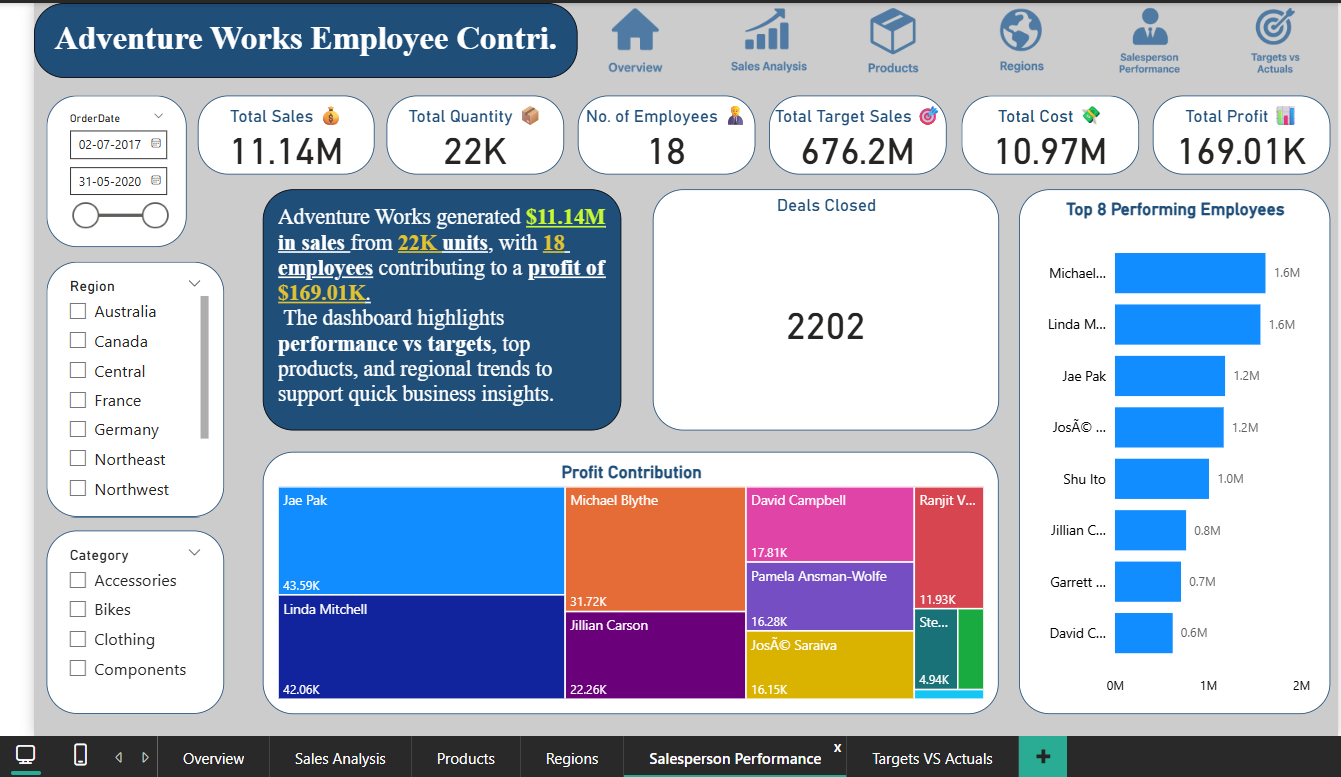

This screenshot's page, from the dashboard's own definition file:
{"tool":"powerbi","page":{"name":"Salesperson Performance","canvas":[1280,720],"ordinal":4},"visuals":[{"type":"textbox","box":[0,0,533.7,73.6],"z":0},{"type":"image","box":[521.5,0,138.5,73.6],"z":0,"group":"g2"},{"type":"card","title":"Total Sales 💰","fields":{"Values":["adventure_works sales.Total Sales"]},"box":[160.7,91,173.7,77.9],"z":0,"group":"g1"},{"type":"image","box":[660,0,122.9,73.6],"z":1000,"group":"g2"},{"type":"group","id":"g1","title":"Group 1","box":[160.7,91,1111.7,78.5],"z":1000},{"type":"card","title":"Total Quantity 📦","fields":{"Values":["Sum(adventure_works sales.Quantity)"]},"box":[345.7,91.6,174.1,77.9],"z":1000,"group":"g1"},{"type":"group","id":"g2","title":"Group 2","box":[521.5,0,758.3,73.6],"z":2000},{"type":"image","box":[782.9,0,122.9,73.6],"z":2000,"group":"g2"},{"type":"card","title":"No. of Employees 👨💼","fields":{"Values":["Count(adventure_works salesperson.EmployeeID)"]},"box":[533.5,91.6,174.1,77.9],"z":2000,"group":"g1"},{"type":"image","box":[905.8,0,128.1,73.6],"z":3000,"group":"g2"},{"type":"card","title":"Total Target Sales 🎯","fields":{"Values":["Sum(adventure_works targets.Target)"]},"box":[721.3,91.6,174.1,77.9],"z":3000,"group":"g1"},{"type":"treemap","title":"Profit Contribution","fields":{"Group":["adventure_works salesperson.Salesperson"],"Values":["adventure_works sales.Total Profit"]},"box":[224.5,440.5,722.7,257.7],"z":3000},{"type":"image","box":[1033.9,0,122.9,73.6],"z":4000,"group":"g2"},{"type":"card","title":"Total Cost 💸","fields":{"Values":["Sum(adventure_works sales.Cost)"]},"box":[910.5,91.6,174.1,77.9],"z":4000,"group":"g1"},{"type":"barChart","title":"Top 8 Performing Employees","fields":{"Y":["Sum(adventure_works sales.Sales)"],"Category":["adventure_works salesperson.Salesperson"]},"box":[966.9,182.8,305.5,515.3],"z":4000},{"type":"image","box":[1156.9,0,122.9,73.6],"z":5000,"group":"g2"},{"type":"card","title":"Total Profit 📊","fields":{"Values":["adventure_works sales.Total Profit"]},"box":[1098.3,91.6,174.1,77.9],"z":5000,"group":"g1"},{"type":"card","title":"Deals Closed","fields":{"Values":["adventure_works sales.Deals Closed"]},"box":[607.4,182.8,339.9,236.8],"z":5000},{"type":"slicer","fields":{"Values":["adventure_works sales.OrderDate"]},"box":[12.3,90.8,137.4,148.5],"z":6000},{"type":"slicer","fields":{"Values":["adventure_works region.Region"]},"box":[12.3,254,174.2,250.3],"z":7000},{"type":"slicer","fields":{"Values":["adventure_works product.Category"]},"box":[12.3,517.8,174.2,180.4],"z":8000},{"type":"textbox","box":[224.5,182.8,352.1,236.8],"z":10000}]}

Visuals, with their boxes on the page's 1280x720 design canvas (x1, y1, x2, y2). These are canvas units, not pixel positions in the 1341x777 screenshot, which may show the page scaled, cropped or inside an application window:
textbox: select_region(0, 0, 534, 74)
image: select_region(522, 0, 660, 74)
"Total Sales 💰" card: select_region(161, 91, 334, 169)
image: select_region(660, 0, 783, 74)
"Group 1" group: select_region(161, 91, 1272, 170)
"Total Quantity 📦" card: select_region(346, 92, 520, 170)
"Group 2" group: select_region(522, 0, 1280, 74)
image: select_region(783, 0, 906, 74)
"No. of Employees 👨💼" card: select_region(534, 92, 708, 170)
image: select_region(906, 0, 1034, 74)
"Total Target Sales 🎯" card: select_region(721, 92, 895, 170)
"Profit Contribution" treemap: select_region(224, 440, 947, 698)
image: select_region(1034, 0, 1157, 74)
"Total Cost 💸" card: select_region(910, 92, 1085, 170)
"Top 8 Performing Employees" barChart: select_region(967, 183, 1272, 698)
image: select_region(1157, 0, 1280, 74)
"Total Profit 📊" card: select_region(1098, 92, 1272, 170)
"Deals Closed" card: select_region(607, 183, 947, 420)
slicer - adventure_works sales.OrderDate: select_region(12, 91, 150, 239)
slicer - adventure_works region.Region: select_region(12, 254, 186, 504)
slicer - adventure_works product.Category: select_region(12, 518, 186, 698)
textbox: select_region(224, 183, 577, 420)
